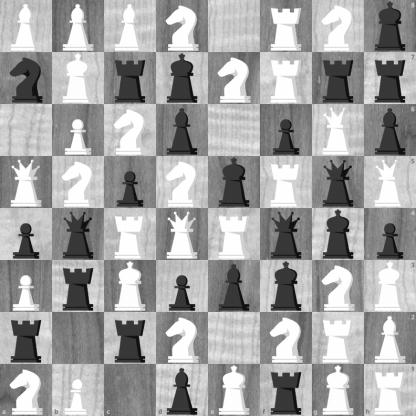B: (364, 312, 416, 364), (1, 1, 52, 52), (53, 1, 104, 52), (105, 1, 156, 52)
K: (312, 364, 364, 416), (364, 260, 416, 312), (209, 364, 260, 416), (53, 53, 104, 104), (105, 261, 156, 312)
N: (0, 364, 52, 416), (53, 157, 104, 208), (105, 105, 156, 156), (157, 1, 208, 52), (157, 157, 208, 208), (157, 313, 208, 364), (209, 53, 260, 104), (261, 313, 312, 364), (313, 1, 364, 52), (313, 261, 364, 312)
P: (52, 364, 104, 416), (1, 261, 52, 312), (53, 105, 104, 156)
Q: (364, 156, 416, 209), (1, 157, 52, 208), (157, 209, 208, 260), (313, 105, 364, 156)
R: (364, 364, 416, 416), (105, 209, 156, 260), (209, 209, 260, 260), (261, 1, 312, 52), (261, 53, 312, 104), (261, 157, 312, 208), (313, 313, 364, 364)
b: (156, 364, 209, 416), (364, 104, 416, 156), (157, 105, 208, 156), (209, 261, 260, 312)
board: (0, 0, 415, 415)
k: (364, 0, 416, 52), (157, 53, 208, 104), (209, 157, 260, 208), (261, 261, 312, 312), (313, 209, 364, 260)
n: (1, 53, 52, 104)
p: (364, 209, 416, 260), (1, 209, 52, 260), (105, 157, 156, 208), (157, 261, 208, 312), (261, 105, 312, 156)
q: (53, 209, 104, 260), (261, 209, 312, 260), (313, 157, 364, 208)
r: (260, 364, 312, 416), (364, 52, 416, 104), (1, 313, 52, 364), (53, 261, 104, 312), (105, 53, 156, 104), (105, 313, 156, 364), (313, 53, 364, 104)
